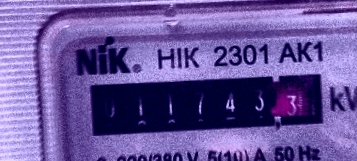0: (101, 91, 117, 120)
1: (162, 87, 175, 116), (133, 89, 144, 117)
3: (251, 84, 266, 112), (282, 92, 298, 117)
4: (221, 86, 236, 114)
7: (191, 85, 207, 114)
screen: (78, 58, 335, 148)
